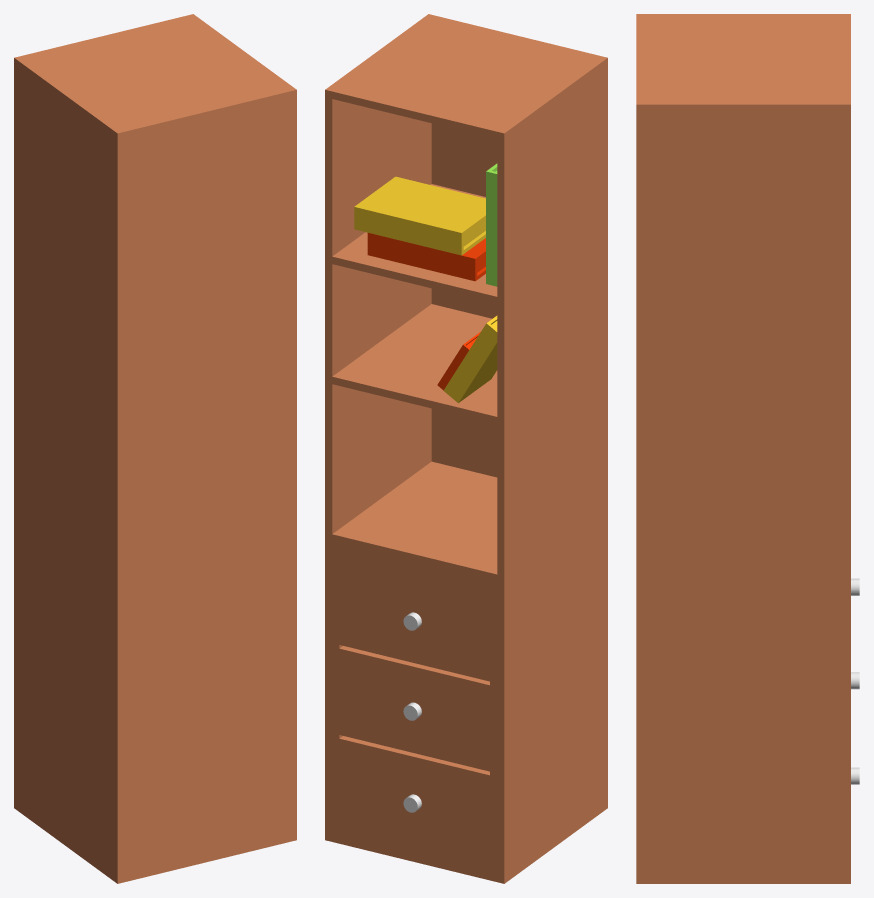
File: books2.glb
3 views of the same model, side by side, from view 1: azimuth 30°, elevation 25°; view 2: azimuth 150°, elevation 25°; view 3: azimuth 270°, elevation 25° (orthographic). The views are drawn at different scales.
Visible parts, largest first — view 1: libros; view 2: libros; view 3: libros.
Boxes of the visible parts, x1,y1,x2,y2 form: libros: (14,14,296,883); libros: (325,14,607,883); libros: (636,14,859,883).
Bounding box in the file's own units: 50 × 200 × 52.
